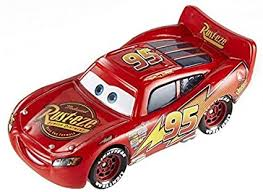mcqueen: (6, 4, 258, 190)
